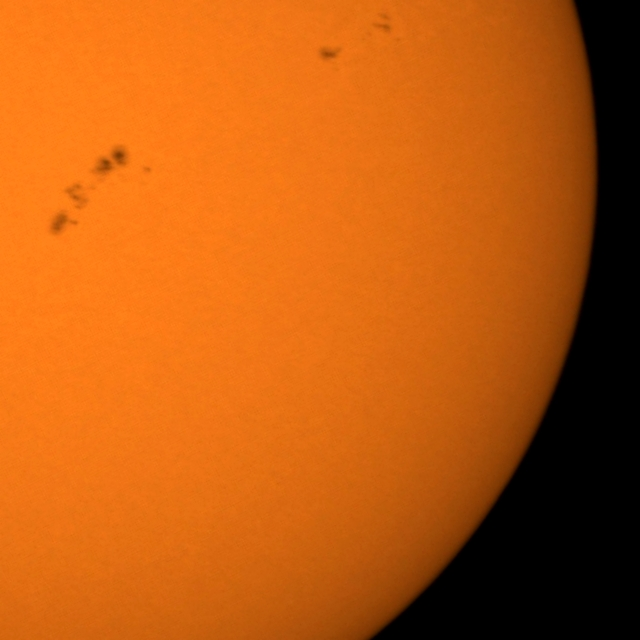sunspot: (46, 194, 84, 240), (61, 179, 94, 217), (95, 143, 131, 177), (370, 11, 394, 37), (317, 44, 342, 65), (140, 164, 153, 176)
